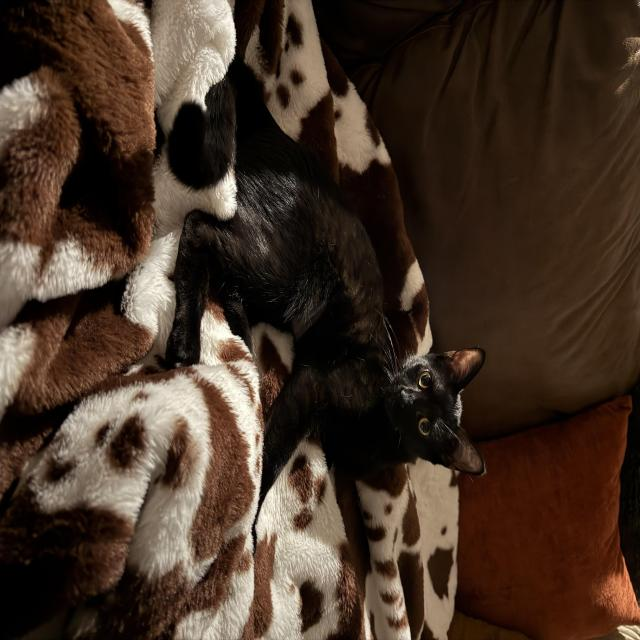bombay_cat: (381, 334, 490, 484)
